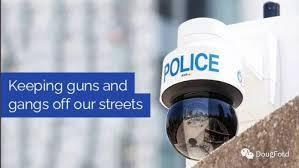maru: (164, 95, 239, 160)
